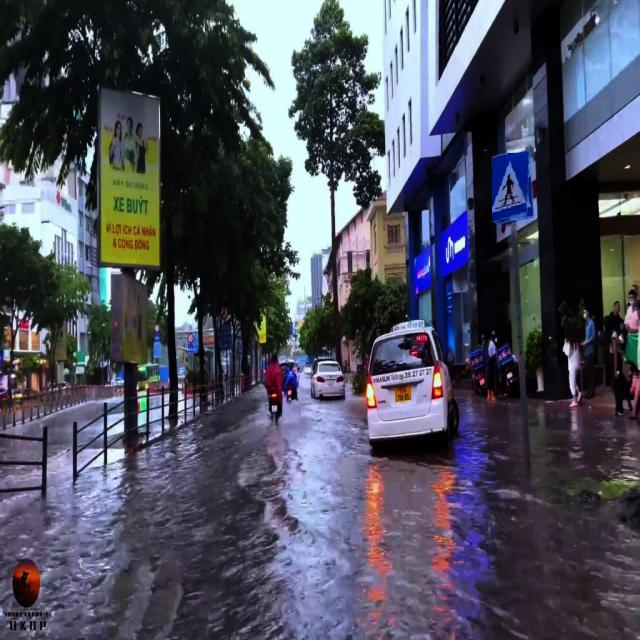duong_nguoi_di_bo_sang_ngang: (492, 153, 534, 223)
